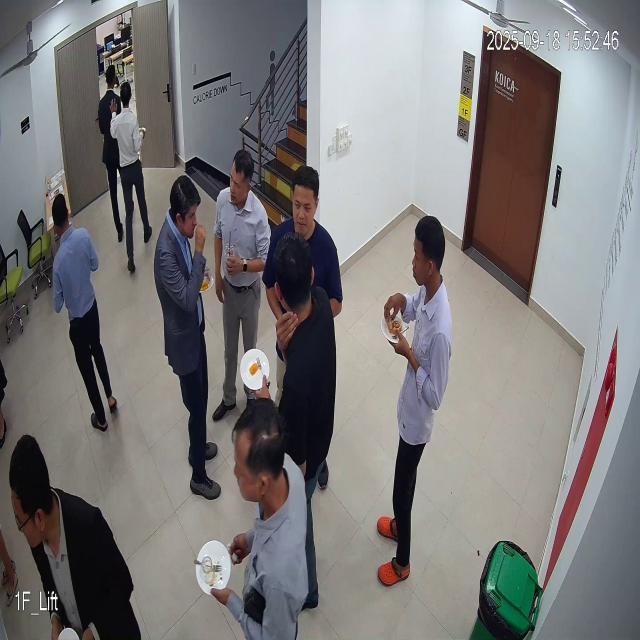face: (409, 211, 451, 296), (290, 168, 322, 238), (227, 145, 254, 208)
